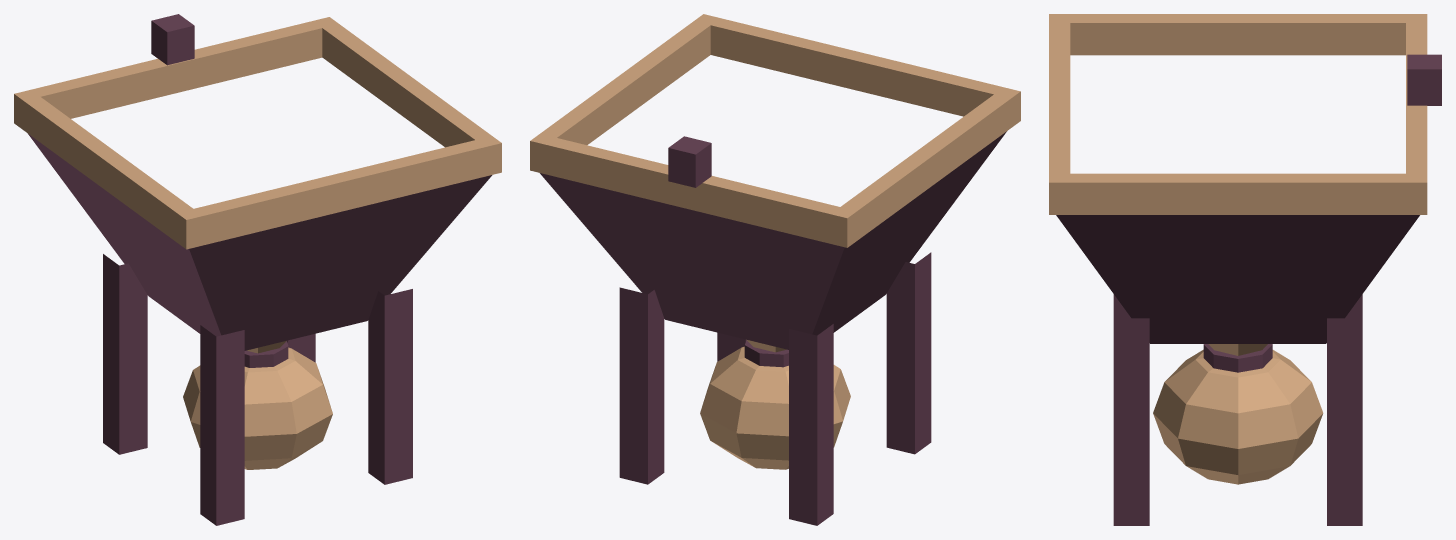
The model's file is chute_body.glb.
3 renders of one model, left to right at view 1: azimuth 30°, elevation 25°; view 2: azimuth 150°, elevation 25°; view 3: azimuth 270°, elevation 25°, orthographic. The views are drawn at different scales.
Parts seen in each view (by area): view 1: Hopper, RimF, RimB, Sack, Leg0, Leg1, Leg2, RimL, RimR, Post, Tie; view 2: Hopper, RimB, RimF, Sack, Leg2, Leg3, Leg0, RimL, RimR, Post, Tie; view 3: Hopper, Sack, RimL, RimR, Leg1, Leg3, RimF, RimB, Post, Tie, Frill.
Part boxes in pixels (x1,y1,x2,y2): Hopper: (28,134,492,350); RimF: (176,136,501,249); RimB: (14,17,338,129); Sack: (183,347,332,469); Leg0: (200,325,244,525); Leg1: (368,289,412,484); Leg2: (103,254,147,454); RimL: (23,97,193,241); RimR: (322,24,491,147); Post: (151,14,194,65); Tie: (244,341,288,367); Hopper: (540,131,1006,349); RimB: (530,134,857,247); RimF: (694,14,1020,127); Sack: (700,346,850,469); Leg2: (789,324,833,525); Leg3: (619,287,664,484); Leg0: (886,252,931,454); RimL: (841,94,1010,240); RimR: (540,21,710,144); Post: (668,136,711,187); Tie: (744,340,788,367); Hopper: (1056,215,1419,343); Sack: (1153,349,1323,484); RimL: (1070,14,1405,55); RimR: (1070,173,1405,214); Leg1: (1113,318,1149,525); Leg3: (1327,318,1362,525); RimF: (1049,14,1070,214); RimB: (1406,14,1427,214); Post: (1407,54,1441,105); Tie: (1203,344,1272,372); Frill: (1208,344,1267,355).
Size of the model in its own units: 1.5 by 1.7 by 1.47.
